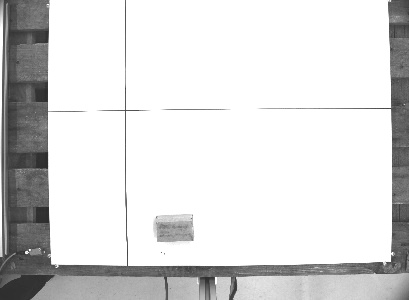b1: (153, 211, 197, 245)
